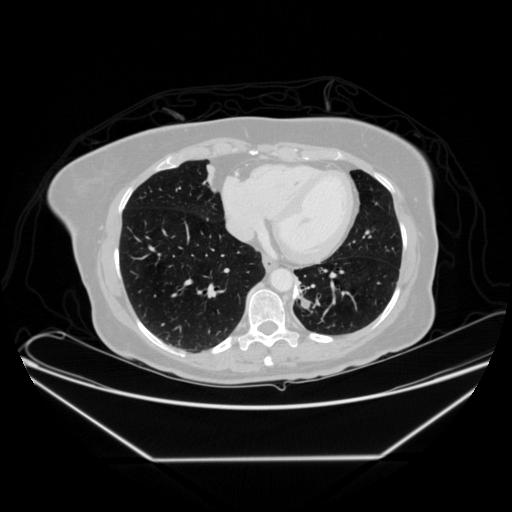nodule: (297, 295, 313, 311)
